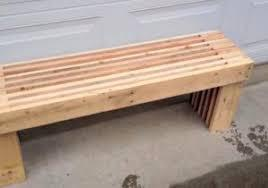wood: (5, 30, 256, 142)
